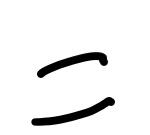eqv: (32, 52, 115, 125)
